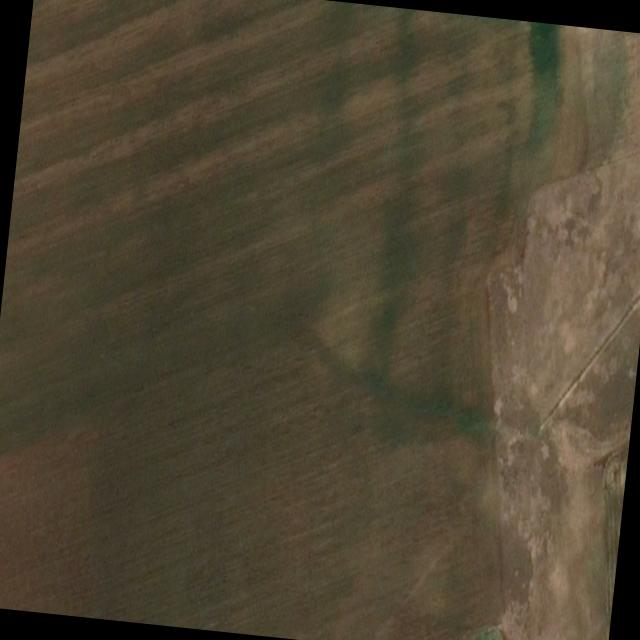bare-soil: (487, 35, 640, 640), (538, 23, 640, 190)
grass: (458, 624, 502, 640)
